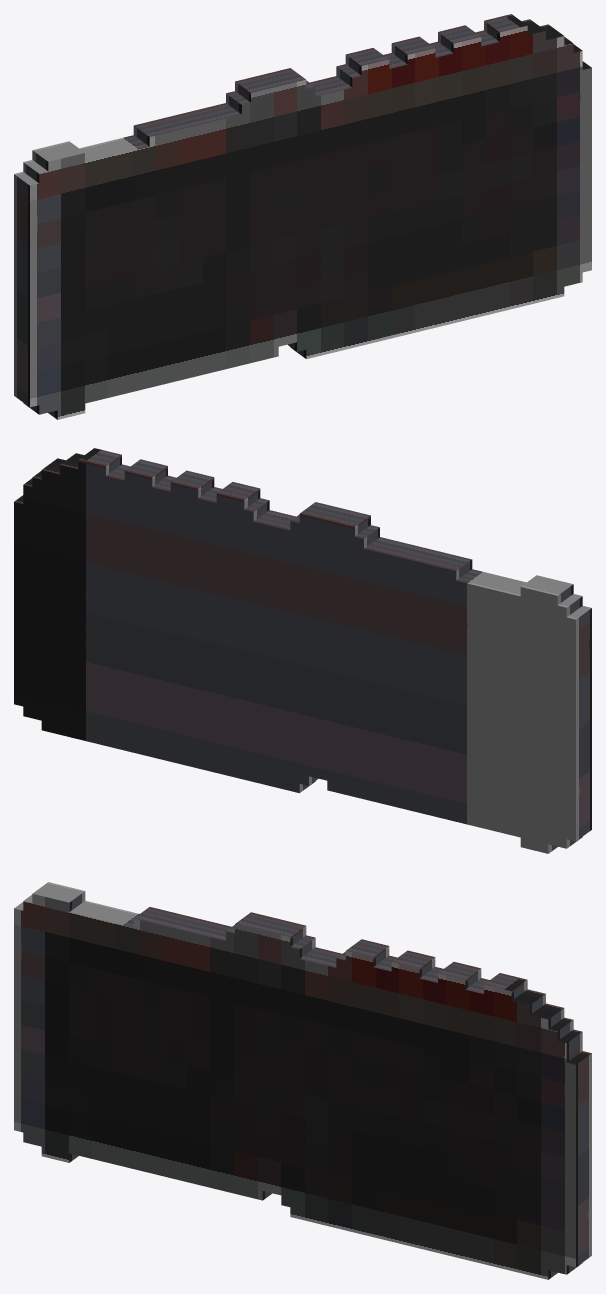
File: bar_sign_oldcockinn.glb
3 views of the same model, one above another, from view 1: azimuth 30°, elevation 25°; view 2: azimuth 150°, elevation 25°; view 3: azimuth 330°, elevation 25° (orthographic).
Visible parts, largest first — view 1: Shaped_Bar_Sign_Housing; view 2: Shaped_Bar_Sign_Housing; view 3: Shaped_Bar_Sign_Housing.
Part boxes in pixels (x1,y1,x2,y2): Shaped_Bar_Sign_Housing: [14, 14, 591, 419]; Shaped_Bar_Sign_Housing: [14, 448, 591, 853]; Shaped_Bar_Sign_Housing: [14, 882, 591, 1279].
Bounding box in the file's own units: 1.72 × 0.8156 × 0.0844.
1 material, 1 textured.
